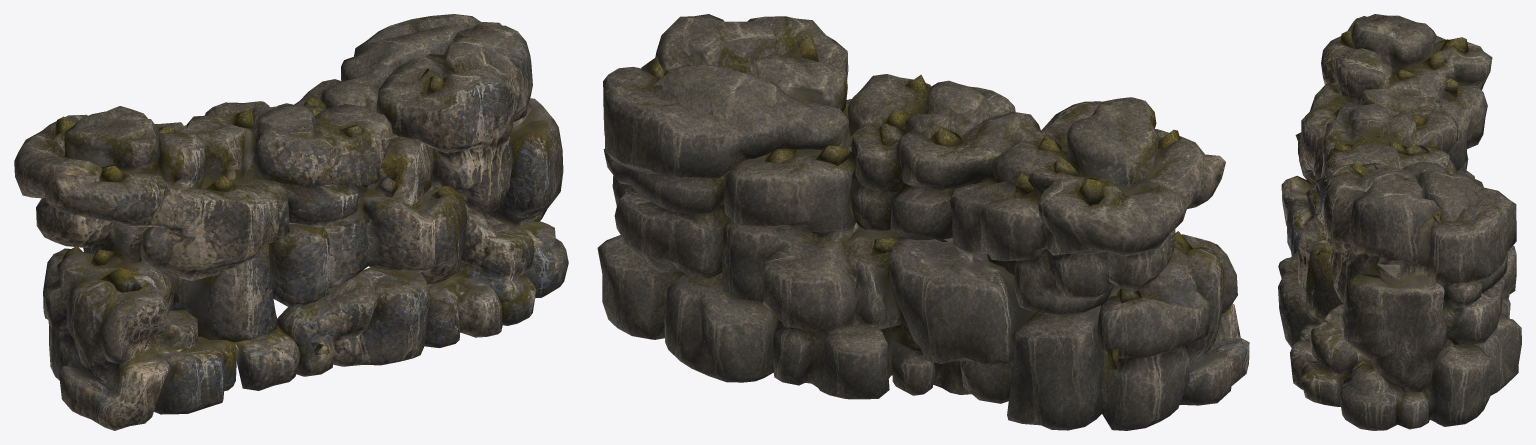
File: limestone-wall.glb
The picture shows the model from 3 angles, left to right: view 1: azimuth 30°, elevation 25°; view 2: azimuth 150°, elevation 25°; view 3: azimuth 270°, elevation 25°; orthographic projection. The views are drawn at different scales.
Parts seen in each view (by area): view 1: limestone-wall-v2_LOD0; view 2: limestone-wall-v2_LOD0; view 3: limestone-wall-v2_LOD0.
Part boxes in pixels (<box>): limestone-wall-v2_LOD0: <box>14,14,568,430</box>; limestone-wall-v2_LOD0: <box>597,14,1249,430</box>; limestone-wall-v2_LOD0: <box>1278,14,1521,430</box>.
Size of what is drawn, in the model's own units: 1 by 0.4951 by 0.474.
Materials: 1 (1 with a texture image).
